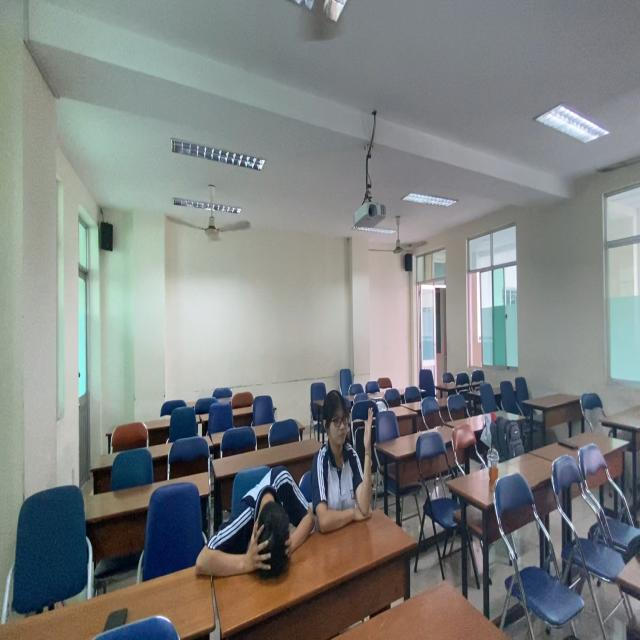raise_hand: (308, 392, 379, 547)
sleep: (193, 468, 318, 590)
